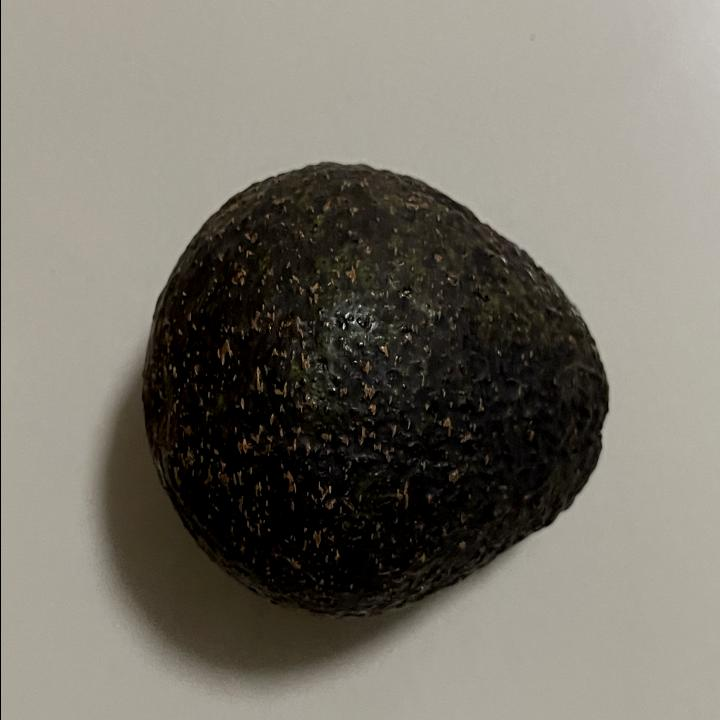Level2: (137, 155, 614, 627)
